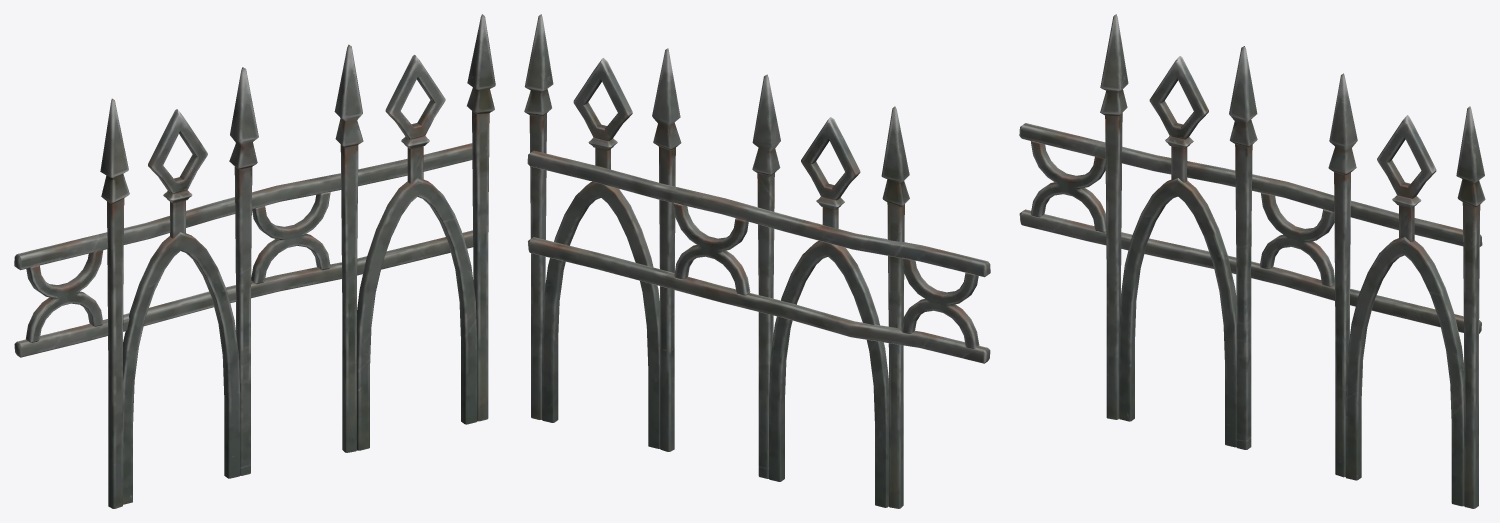
The picture shows the model from 3 angles, left to right: view 1: azimuth 30°, elevation 25°; view 2: azimuth 150°, elevation 25°; view 3: azimuth 330°, elevation 25°; orthographic projection.
Parts seen in each view (by area): view 1: SM_Iron_Fence_01v3_LOD0; view 2: SM_Iron_Fence_01v3_LOD0; view 3: SM_Iron_Fence_01v3_LOD0.
Part boxes in pixels (<box>): SM_Iron_Fence_01v3_LOD0: <box>14,14,495,508</box>; SM_Iron_Fence_01v3_LOD0: <box>524,14,990,508</box>; SM_Iron_Fence_01v3_LOD0: <box>1019,14,1485,508</box>.
Bounding box in the file's own units: 2.05 × 1.69 × 0.127.
1 material, 1 textured.
